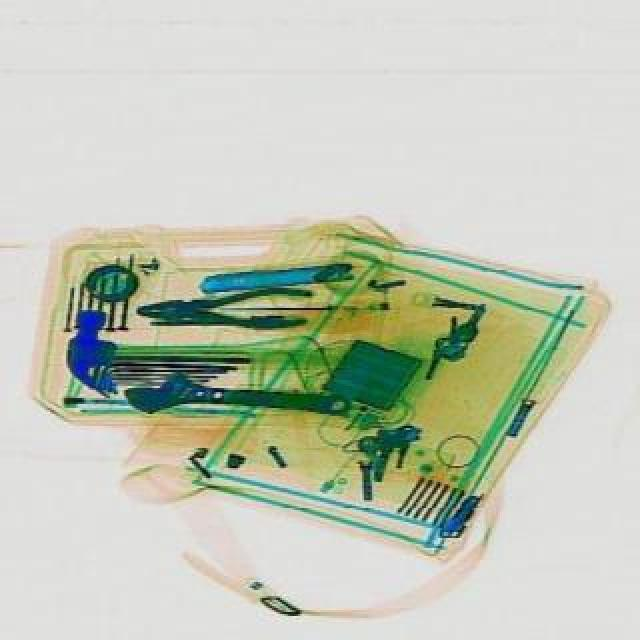scissors: (118, 368, 348, 424)
wrench: (134, 284, 310, 328)
